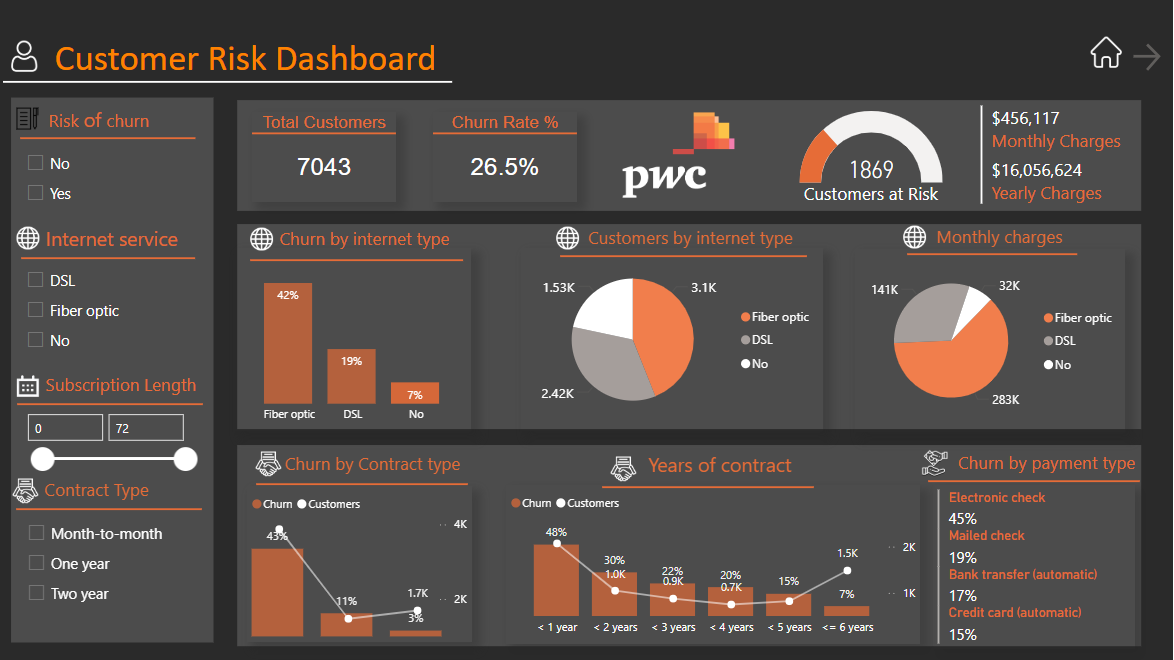

This screenshot's page, from the dashboard's own definition file:
{"tool":"powerbi","page":{"name":"Customer Risk DB","canvas":[1280,720],"ordinal":2},"visuals":[{"type":"textbox","title":"Customer Risk Dashboard","box":[55.3,38.3,460.6,51],"z":0},{"type":"image","box":[675,103.5,131.8,131.8],"z":1000},{"type":"shape","box":[4.3,14.2,490.4,150.2],"z":2000},{"type":"image","box":[1186.3,35.4,43.9,43.9],"z":3000},{"type":"actionButton","box":[1231.7,42.5,48.2,39.7],"z":4000},{"type":"image","box":[4.3,39.7,51,43.9],"z":5000},{"type":"basicShape","box":[11.3,100.6,225.4,606.6],"z":6000},{"type":"textbox","box":[49.6,110.6,174.3,41.1],"z":7000},{"type":"basicShape","box":[12.8,130.4,211.2,39.7],"z":8000},{"type":"image","box":[12.5,112,38.3,34],"z":9000},{"type":"slicer","fields":{"Values":["01 Churn-Dataset.Churn"]},"box":[18.4,155.9,76.5,79.4],"z":10000},{"type":"image","box":[13.2,242.4,36.9,35.4],"z":11000},{"type":"textbox","box":[45.4,239.5,165.8,41.1],"z":12000},{"type":"basicShape","box":[14.2,262.2,209.8,39.7],"z":13000},{"type":"slicer","fields":{"Values":["01 Churn-Dataset.InternetService"]},"box":[18.4,283.5,134.6,109.1],"z":14000},{"type":"image","box":[11.1,401.1,41.1,39.7],"z":15000},{"type":"textbox","box":[45.4,401.1,204.1,41.1],"z":16000},{"type":"basicShape","box":[9.9,420.9,222.5,39.7],"z":17000},{"type":"slicer","fields":{"Values":["01 Churn-Dataset.tenure"]},"box":[18.4,442.2,205.5,109.1],"z":18000},{"type":"textbox","box":[44.6,515.9,204.1,41.1],"z":19000},{"type":"basicShape","box":[9.2,535.7,222.5,39.7],"z":20000},{"type":"image","box":[9.9,515.9,38.3,39.7],"z":21000},{"type":"slicer","fields":{"Values":["01 Churn-Dataset.Contract"]},"box":[19.8,559.8,182.8,109.1],"z":22000},{"type":"basicShape","box":[249.4,107.7,1006.3,123.3],"z":23000},{"type":"shape","box":[276.4,78,157.3,136.1],"z":24000},{"type":"card","title":"Total Customers","fields":{"Values":["Count(01 Churn-Dataset.customerID)"]},"box":[276.4,121.9,157.3,97.8],"z":25000},{"type":"shape","box":[473.4,78,157.3,136.1],"z":26000},{"type":"card","title":"Churn Rate %","fields":{"Values":["01 Churn-Dataset.Customers at risk%"]},"box":[473.4,121.9,157.3,97.8],"z":27000},{"type":"gauge","fields":{"MaxValue":["CountNonNull(01 Churn-Dataset.customerID)"],"Y":["01 Churn-Dataset.Churn YES"]},"box":[868.5,107.5,166.3,104.1],"z":28000},{"type":"textbox","box":[866,192.8,170.1,41.1],"z":29000},{"type":"multiRowCard","fields":{"Values":["Sum(01 Churn-Dataset.MonthlyCharges)","Sum(01 Churn-Dataset.Total_Charges)"]},"box":[1065.8,110.6,189.9,126.1],"z":30000},{"type":"basicShape","box":[249.4,242.4,1006.3,228.2],"z":31000},{"type":"basicShape","box":[249.4,483.3,1006.3,223.9],"z":32000},{"type":"basicShape","box":[263.6,263.6,252.3,39.7],"z":33000},{"type":"textbox","box":[294.8,242.4,208.3,41.1],"z":34000},{"type":"clusteredColumnChart","fields":{"Category":["01 Churn-Dataset.InternetService"],"Y":["01 Churn-Dataset.Customers at risk%"]},"box":[256.5,270.7,259.4,199.8],"z":35000},{"type":"image","box":[263.6,243.8,45.4,35.4],"z":36000},{"type":"textbox","box":[300.5,487.6,215.4,41.1],"z":37000},{"type":"lineClusteredColumnComboChart","fields":{"Category":["01 Churn-Dataset.Contract"],"Y":["01 Churn-Dataset.Customers at risk%"],"Y2":["CountNonNull(01 Churn-Dataset.customerID)"]},"box":[270.7,530.1,245.2,170.1],"z":38000},{"type":"basicShape","box":[270.7,508.8,250.9,39.7],"z":39000},{"type":"lineClusteredColumnComboChart","fields":{"Y":["01 Churn-Dataset.Customers at risk%"],"Y2":["CountNonNull(01 Churn-Dataset.customerID)"],"Category":["01 Churn-Dataset.Loyalty"]},"box":[552.8,528.7,452.1,172.9],"z":40000},{"type":"textbox","box":[680.3,486.1,211.2,41.1],"z":41000},{"type":"basicShape","box":[647.8,511.7,250.9,39.7],"z":42000},{"type":"image","box":[661.9,491.8,38.3,39.7],"z":43000},{"type":"multiRowCard","fields":{"Values":["01 Churn-Dataset.PaymentMethod","01 Churn-Dataset.Customers at risk%"]},"box":[1019.1,528.7,219.7,178.6],"z":44000},{"type":"textbox","box":[1030.4,486.1,223.9,41.1],"z":45000},{"type":"basicShape","box":[1003.5,504.6,250.9,39.7],"z":46000},{"type":"image","box":[989.3,483.3,63.8,43.9],"z":47000},{"type":"image","box":[275,486.1,38.3,39.7],"z":48000},{"type":"pieChart","fields":{"Category":["01 Churn-Dataset.InternetService"],"Y":["CountNonNull(01 Churn-Dataset.customerID)"]},"box":[569.8,270.7,328.8,199.8],"z":48001},{"type":"textbox","box":[623.6,240.9,260.8,41.1],"z":48002},{"type":"image","box":[598.2,242.4,45.4,35.4],"z":48003},{"type":"basicShape","box":[602.4,259.4,289.1,39.7],"z":48004},{"type":"pieChart","fields":{"Category":["01 Churn-Dataset.InternetService"],"Y":["Sum(01 Churn-Dataset.MonthlyCharges)"]},"box":[933.6,272.1,294.8,199.8],"z":48005},{"type":"textbox","box":[1017.6,239.5,175.7,41.1],"z":48006},{"type":"image","box":[976.6,241,45.4,35.4],"z":48007},{"type":"basicShape","box":[980.8,258,205.5,39.7],"z":48008}]}

Visuals, with their boxes in screenshot pixels (x1, y1, x2, y2), scaled from the page's 1280x720 canvas onto the 1174x660 screenshot:
"Customer Risk Dashboard" textbox: {"left": 51, "top": 35, "right": 473, "bottom": 82}
image: {"left": 619, "top": 95, "right": 740, "bottom": 216}
shape: {"left": 4, "top": 13, "right": 454, "bottom": 151}
image: {"left": 1088, "top": 32, "right": 1128, "bottom": 73}
actionButton: {"left": 1130, "top": 39, "right": 1173, "bottom": 75}
image: {"left": 4, "top": 36, "right": 51, "bottom": 77}
basicShape: {"left": 10, "top": 92, "right": 217, "bottom": 648}
textbox: {"left": 45, "top": 101, "right": 205, "bottom": 139}
basicShape: {"left": 12, "top": 120, "right": 205, "bottom": 156}
image: {"left": 11, "top": 103, "right": 47, "bottom": 134}
slicer - 01 Churn-Dataset.Churn: {"left": 17, "top": 143, "right": 87, "bottom": 216}
image: {"left": 12, "top": 222, "right": 46, "bottom": 255}
textbox: {"left": 42, "top": 220, "right": 194, "bottom": 257}
basicShape: {"left": 13, "top": 240, "right": 205, "bottom": 277}
slicer - 01 Churn-Dataset.InternetService: {"left": 17, "top": 260, "right": 140, "bottom": 360}
image: {"left": 10, "top": 368, "right": 48, "bottom": 404}
textbox: {"left": 42, "top": 368, "right": 229, "bottom": 405}
basicShape: {"left": 9, "top": 386, "right": 213, "bottom": 422}
slicer - 01 Churn-Dataset.tenure: {"left": 17, "top": 405, "right": 205, "bottom": 505}
textbox: {"left": 41, "top": 473, "right": 228, "bottom": 511}
basicShape: {"left": 8, "top": 491, "right": 213, "bottom": 527}
image: {"left": 9, "top": 473, "right": 44, "bottom": 509}
slicer - 01 Churn-Dataset.Contract: {"left": 18, "top": 513, "right": 186, "bottom": 613}
basicShape: {"left": 229, "top": 99, "right": 1152, "bottom": 212}
shape: {"left": 254, "top": 72, "right": 398, "bottom": 196}
"Total Customers" card: {"left": 254, "top": 112, "right": 398, "bottom": 201}
shape: {"left": 434, "top": 72, "right": 578, "bottom": 196}
"Churn Rate %" card: {"left": 434, "top": 112, "right": 578, "bottom": 201}
gauge - CountNonNull(01 Churn-Dataset.customerID) x 01 Churn-Dataset.Churn YES: {"left": 797, "top": 99, "right": 949, "bottom": 194}
textbox: {"left": 794, "top": 177, "right": 950, "bottom": 214}
multiRowCard - Sum(01 Churn-Dataset.MonthlyCharges) x Sum(01 Churn-Dataset.Total_Charges): {"left": 978, "top": 101, "right": 1152, "bottom": 217}
basicShape: {"left": 229, "top": 222, "right": 1152, "bottom": 431}
basicShape: {"left": 229, "top": 443, "right": 1152, "bottom": 648}
basicShape: {"left": 242, "top": 242, "right": 473, "bottom": 278}
textbox: {"left": 270, "top": 222, "right": 461, "bottom": 260}
clusteredColumnChart - 01 Churn-Dataset.InternetService x 01 Churn-Dataset.Customers at risk%: {"left": 235, "top": 248, "right": 473, "bottom": 431}
image: {"left": 242, "top": 223, "right": 283, "bottom": 256}
textbox: {"left": 276, "top": 447, "right": 473, "bottom": 485}
lineClusteredColumnComboChart - 01 Churn-Dataset.Contract x 01 Churn-Dataset.Customers at risk%: {"left": 248, "top": 486, "right": 473, "bottom": 642}
basicShape: {"left": 248, "top": 466, "right": 478, "bottom": 503}
lineClusteredColumnComboChart - 01 Churn-Dataset.Customers at risk% x CountNonNull(01 Churn-Dataset.customerID): {"left": 507, "top": 485, "right": 922, "bottom": 643}
textbox: {"left": 624, "top": 446, "right": 818, "bottom": 483}
basicShape: {"left": 594, "top": 469, "right": 824, "bottom": 505}
image: {"left": 607, "top": 451, "right": 642, "bottom": 487}
multiRowCard - 01 Churn-Dataset.PaymentMethod x 01 Churn-Dataset.Customers at risk%: {"left": 935, "top": 485, "right": 1136, "bottom": 648}
textbox: {"left": 945, "top": 446, "right": 1150, "bottom": 483}
basicShape: {"left": 920, "top": 463, "right": 1151, "bottom": 499}
image: {"left": 907, "top": 443, "right": 966, "bottom": 483}
image: {"left": 252, "top": 446, "right": 287, "bottom": 482}
pieChart - 01 Churn-Dataset.InternetService x CountNonNull(01 Churn-Dataset.customerID): {"left": 523, "top": 248, "right": 824, "bottom": 431}
textbox: {"left": 572, "top": 221, "right": 811, "bottom": 258}
image: {"left": 549, "top": 222, "right": 590, "bottom": 255}
basicShape: {"left": 553, "top": 238, "right": 818, "bottom": 274}
pieChart - 01 Churn-Dataset.InternetService x Sum(01 Churn-Dataset.MonthlyCharges): {"left": 856, "top": 249, "right": 1127, "bottom": 433}
textbox: {"left": 933, "top": 220, "right": 1094, "bottom": 257}
image: {"left": 896, "top": 221, "right": 937, "bottom": 253}
basicShape: {"left": 900, "top": 236, "right": 1088, "bottom": 273}
